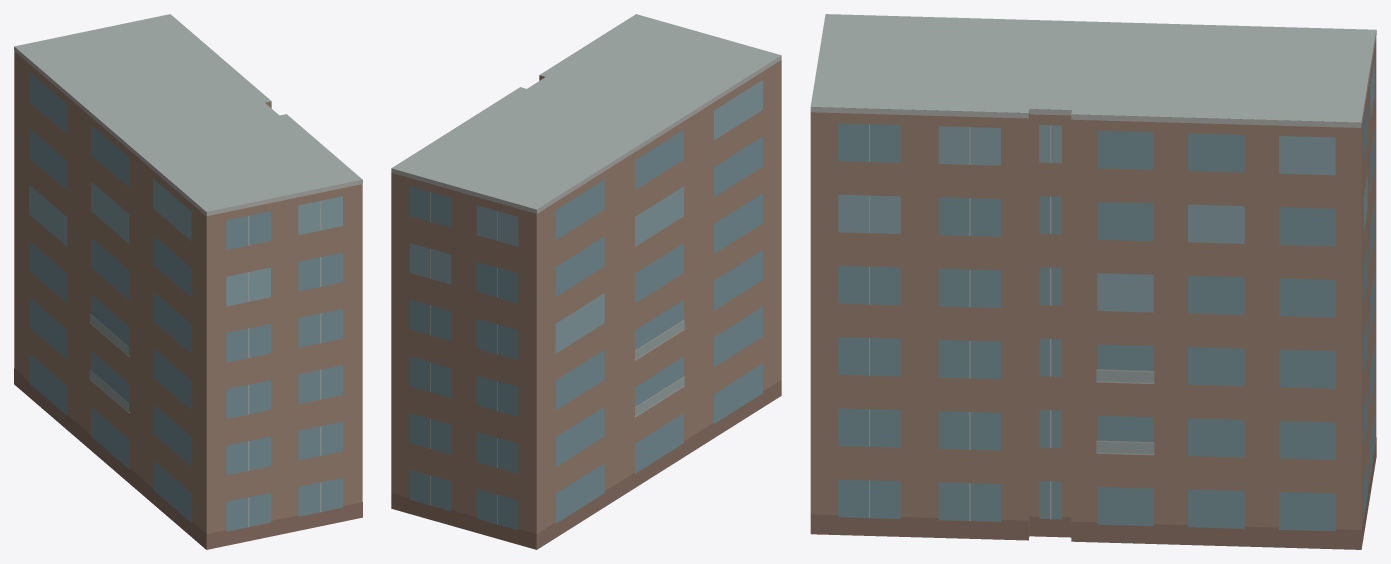
Rendered from survey-upis-32658211.glb.
The picture shows the model from 3 angles, left to right: view 1: azimuth 30°, elevation 25°; view 2: azimuth 150°, elevation 25°; view 3: azimuth 270°, elevation 25°; orthographic projection. The views are drawn at different scales.
Parts seen in each view (by area): view 1: survey-upis-32658211.tmp; view 2: survey-upis-32658211.tmp; view 3: survey-upis-32658211.tmp.
Part boxes in pixels (bbox=[...]): survey-upis-32658211.tmp: bbox=[14, 14, 362, 549]; survey-upis-32658211.tmp: bbox=[391, 14, 781, 549]; survey-upis-32658211.tmp: bbox=[810, 14, 1376, 549].
Bounding box in the file's own units: 10.36 × 19 × 22.81.
